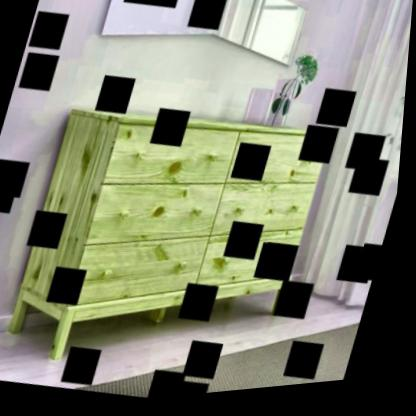Sideboard: (0, 81, 350, 414)
